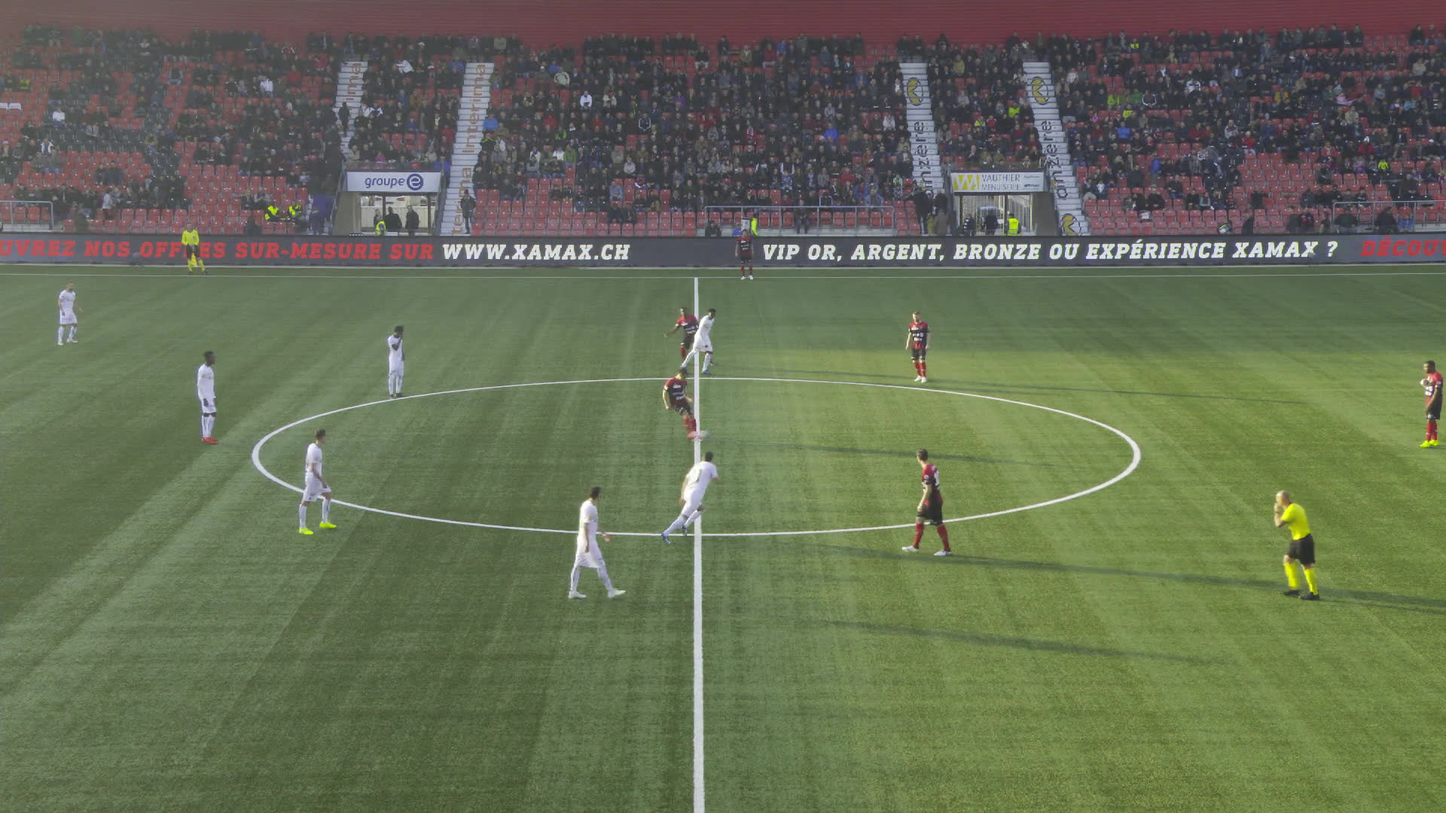ball: (710, 429, 725, 439)
player: (902, 446, 953, 556), (567, 484, 615, 600), (667, 447, 720, 542), (295, 428, 339, 535), (654, 364, 707, 440), (669, 303, 715, 370), (678, 309, 717, 375), (1417, 359, 1444, 448), (196, 350, 219, 444), (904, 309, 931, 383), (56, 280, 81, 346), (387, 322, 407, 400), (734, 228, 755, 280)
referee: (1264, 489, 1330, 601), (181, 222, 208, 275)
